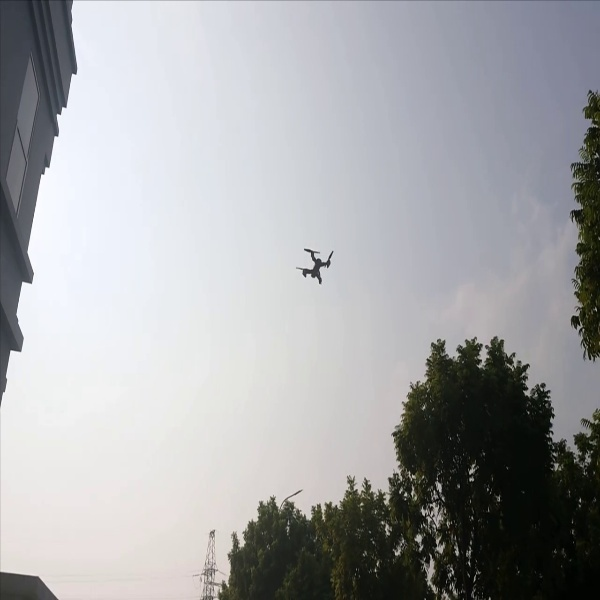drone: (291, 240, 340, 286)
